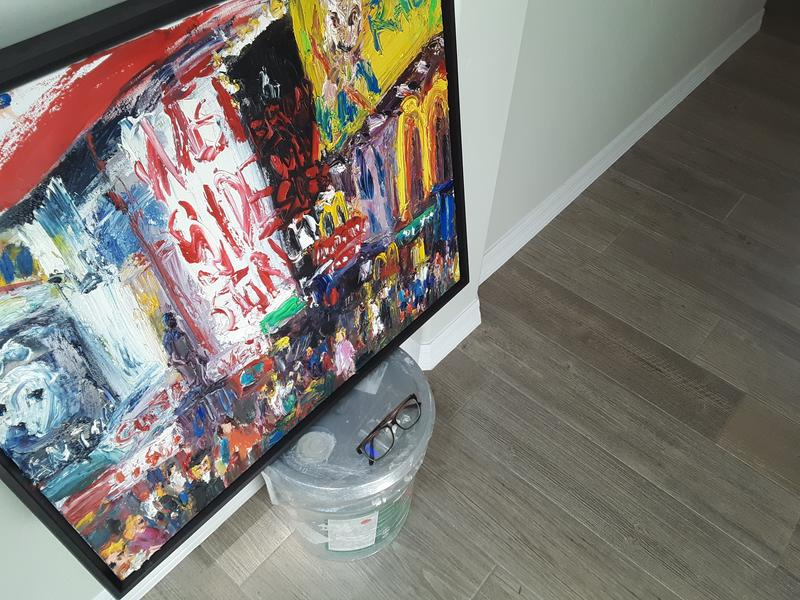glasses: (355, 393, 424, 466)
